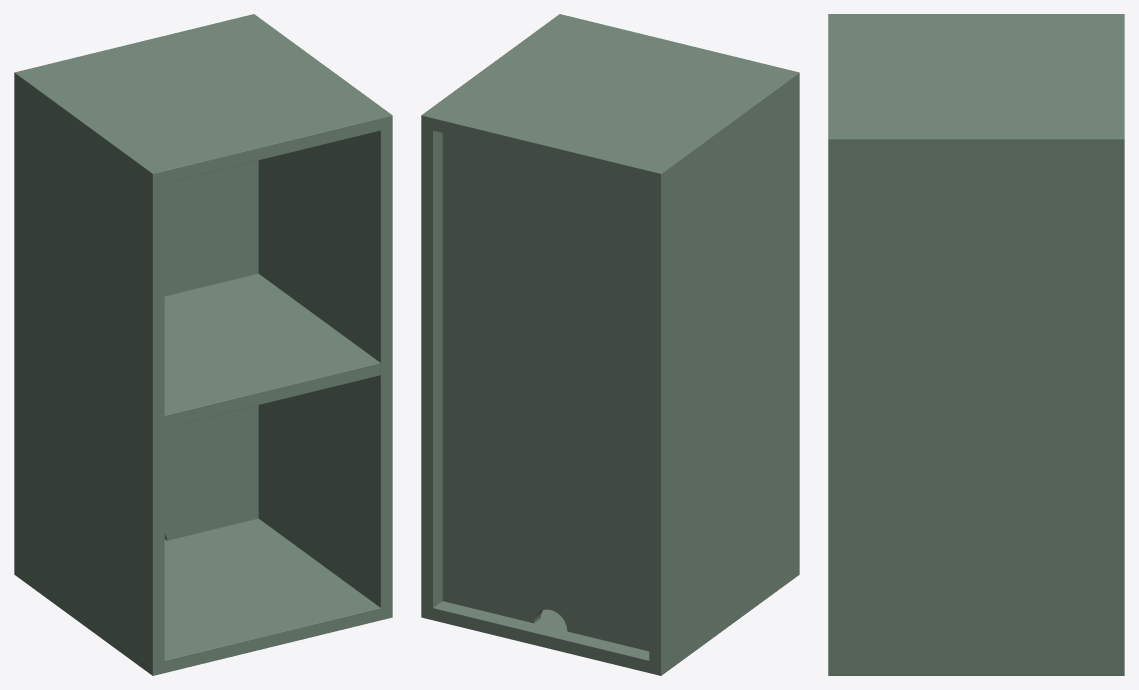
File: MOD_1X2_S_B_AP_VA.glb
3 views of the same model, side by side, from view 1: azimuth 30°, elevation 25°; view 2: azimuth 150°, elevation 25°; view 3: azimuth 270°, elevation 25° (orthographic). The views are drawn at different scales.
Size of the model in its own units: 360 by 720 by 360.
